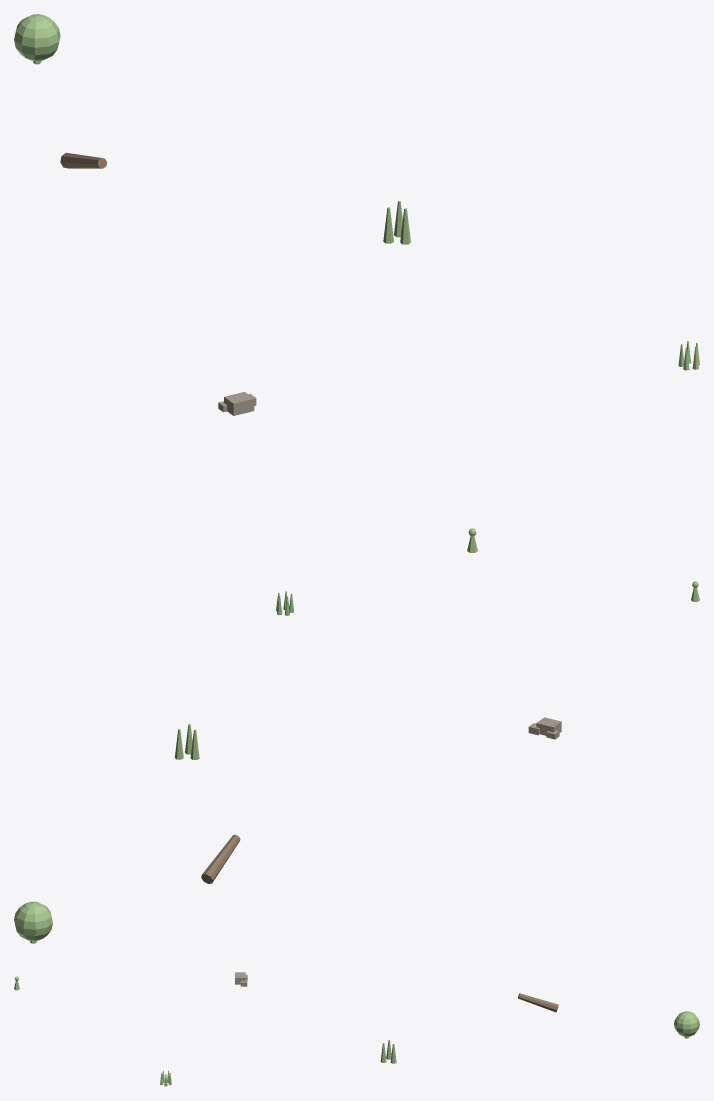
The model's file is SM_RES_World.fbx.
3 renders of one model, top to bottom at view 1: azimuth 30°, elevation 25°; view 2: azimuth 150°, elevation 25°; view 3: azimuth 270°, elevation 25°, orthographic. The views are drawn at different scales.
Visible parts, largest first — view 1: SM_RES_BERRY_World_Mesh; view 2: SM_RES_BERRY_World_Mesh, SM_RES_WOOD_World_Mesh, SM_RES_FIBER_World_Mesh; view 3: SM_RES_BERRY_World_Mesh, SM_RES_WOOD_World_Mesh, SM_RES_FIBER_World_Mesh.
Boxes of the visible parts, box(x1,y1,x2,y2) form: SM_RES_BERRY_World_Mesh: box(14, 14, 60, 64); SM_RES_BERRY_World_Mesh: box(14, 901, 52, 943); SM_RES_WOOD_World_Mesh: box(201, 834, 240, 883); SM_RES_FIBER_World_Mesh: box(174, 724, 199, 759); SM_RES_BERRY_World_Mesh: box(674, 1011, 699, 1038); SM_RES_WOOD_World_Mesh: box(518, 993, 558, 1012); SM_RES_FIBER_World_Mesh: box(380, 1040, 396, 1063).
Bounding box in the file's own units: 18.43 × 6.91 × 0.755.
